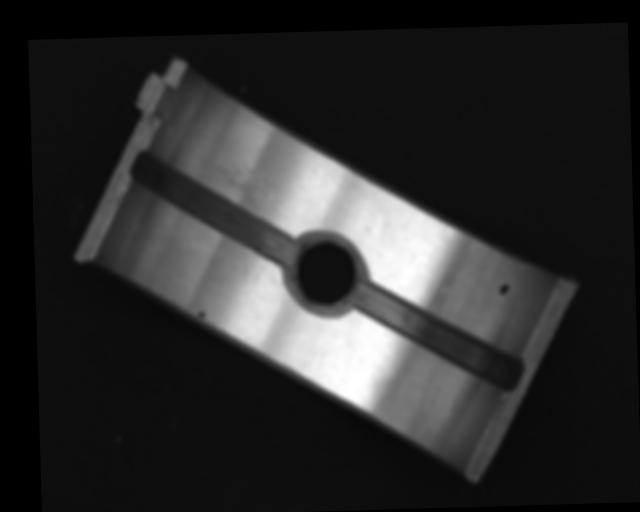blot: (498, 282, 511, 297), (195, 310, 207, 320)
gap: (129, 147, 297, 274), (355, 278, 518, 394)
hole: (288, 233, 364, 316)
scratch: (192, 150, 272, 221)
